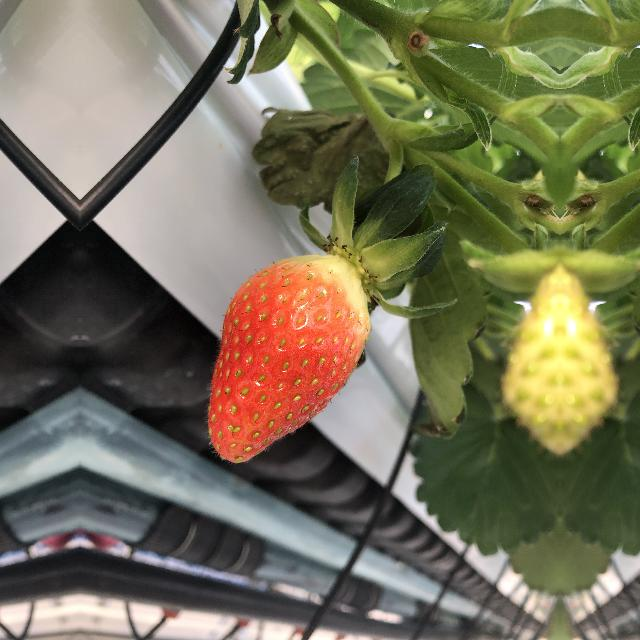Health_100: (206, 240, 378, 462)
